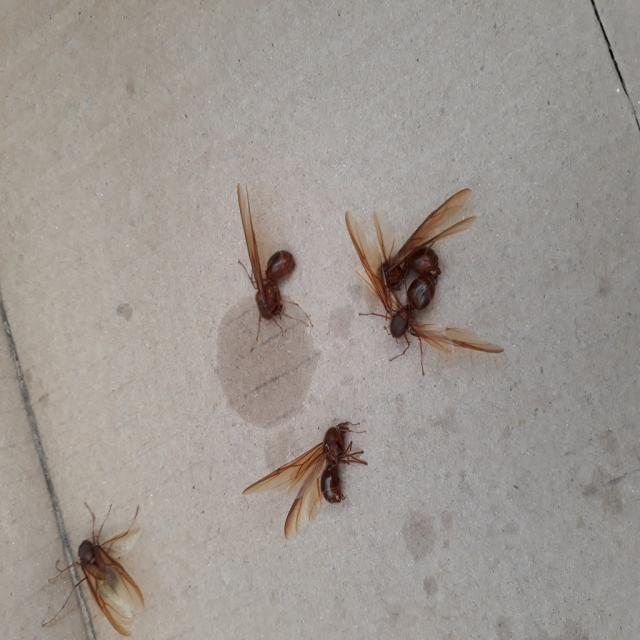Dead-Male-Alate: (345, 211, 504, 377), (242, 421, 368, 541), (373, 188, 477, 328), (41, 501, 146, 637), (237, 180, 314, 342)
